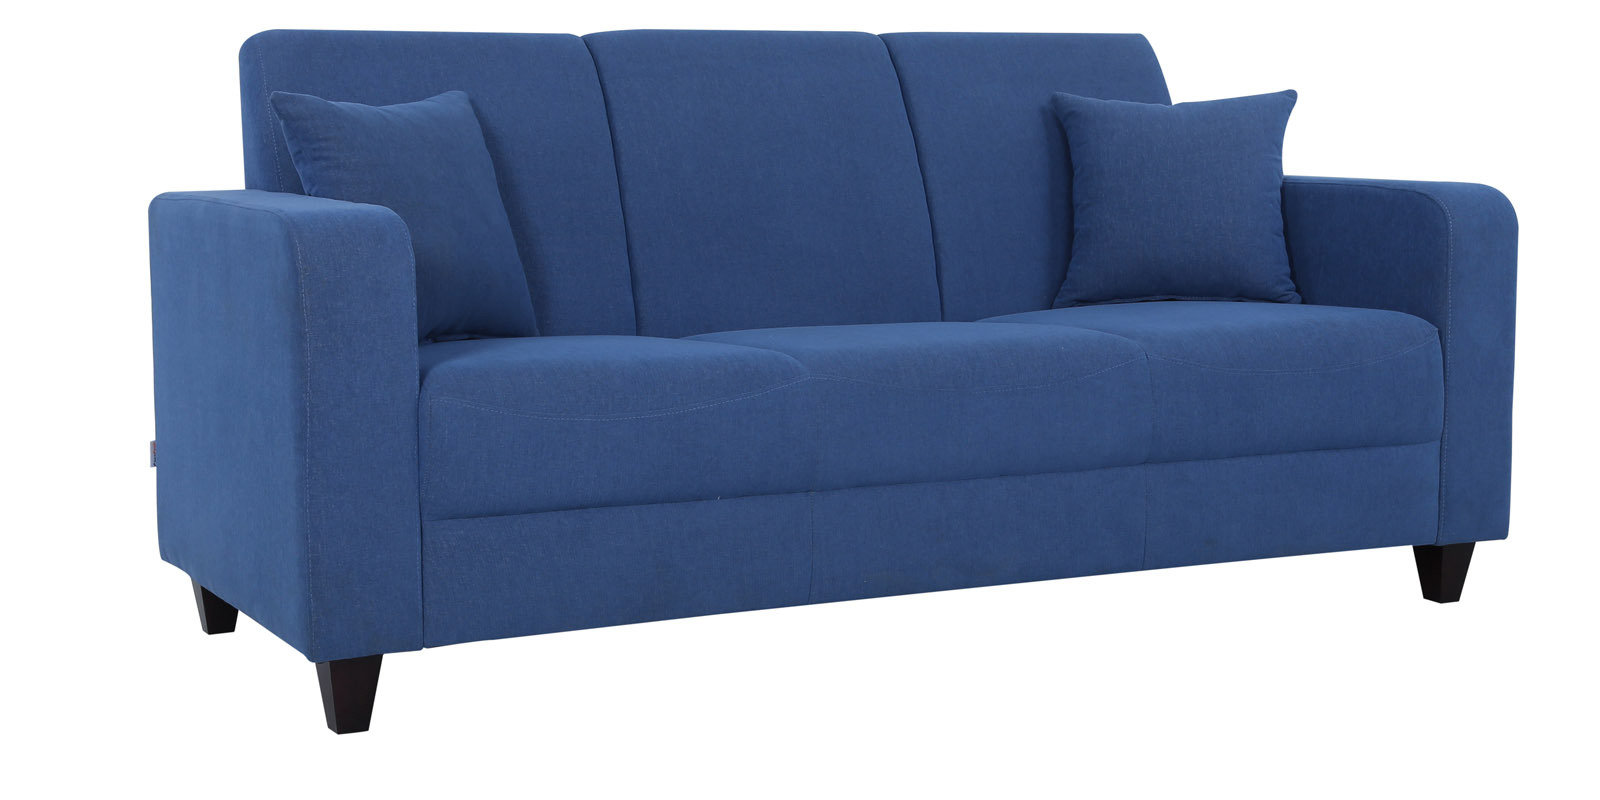Alba Three Seater Sofa in Denim Blue Colour by CasaCraft: (134, 22, 1524, 719)
